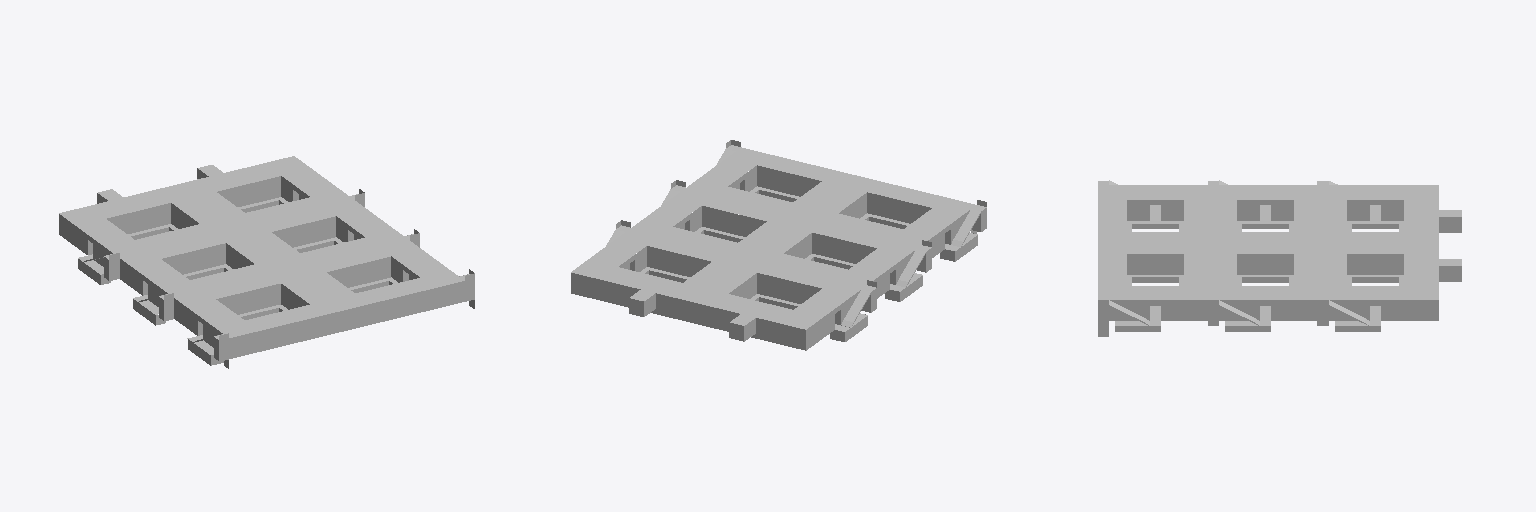
Rendered from HangarVerfinalDec.obj.
3 views of the same model, side by side, from view 1: azimuth 30°, elevation 25°; view 2: azimuth 150°, elevation 25°; view 3: azimuth 270°, elevation 25° (orthographic).
Parts seen in each view (by area): view 1: Cube.004, Cube, Cube.001; view 2: Cube.004, Cube, Cube.001; view 3: Cube.004, Cube, Cube.001.
Part boxes in pixels (left/top/right/bottom): Cube.004: left=59, top=156, right=464, bottom=354; Cube: left=59, top=173, right=464, bottom=365; Cube.001: left=84, top=189, right=474, bottom=368; Cube.004: left=571, top=147, right=977, bottom=341; Cube: left=571, top=165, right=977, bottom=350; Cube.001: left=606, top=140, right=986, bottom=327; Cube.004: left=1098, top=185, right=1461, bottom=325; Cube: left=1109, top=200, right=1450, bottom=331; Cube.001: left=1098, top=180, right=1369, bottom=336.
Size of the model in its own units: 25.51 by 3.5 by 31.5.